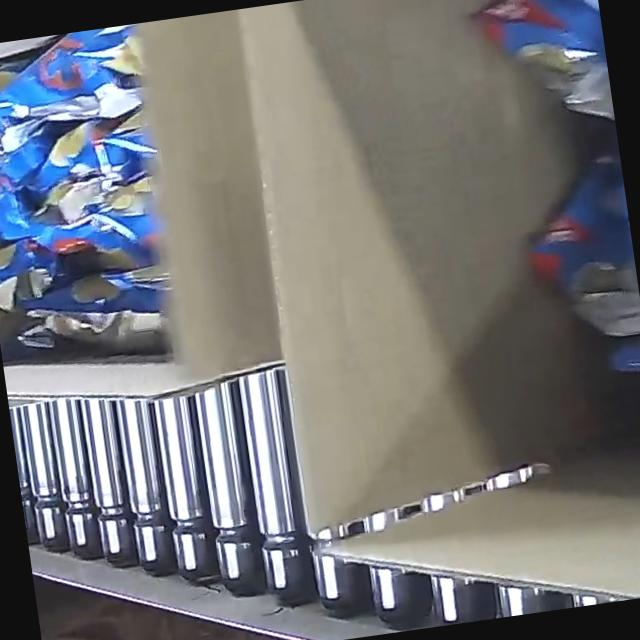paprika: (464, 0, 640, 491), (0, 22, 182, 356)
